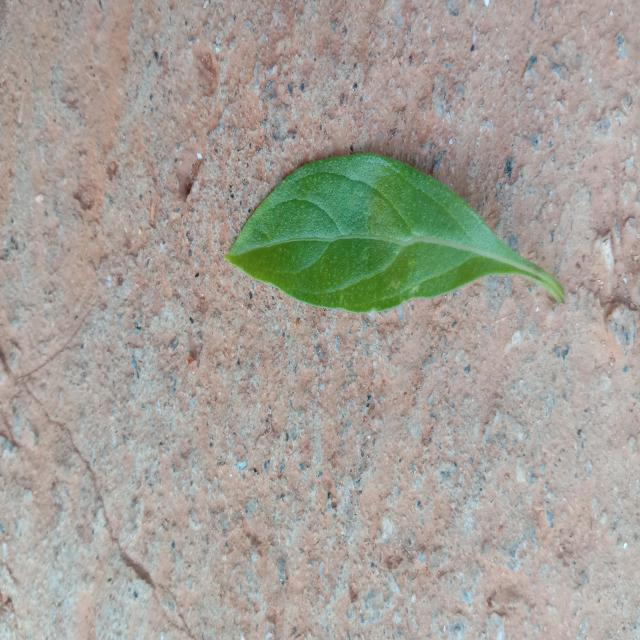kamakasturi: (226, 153, 564, 312)
